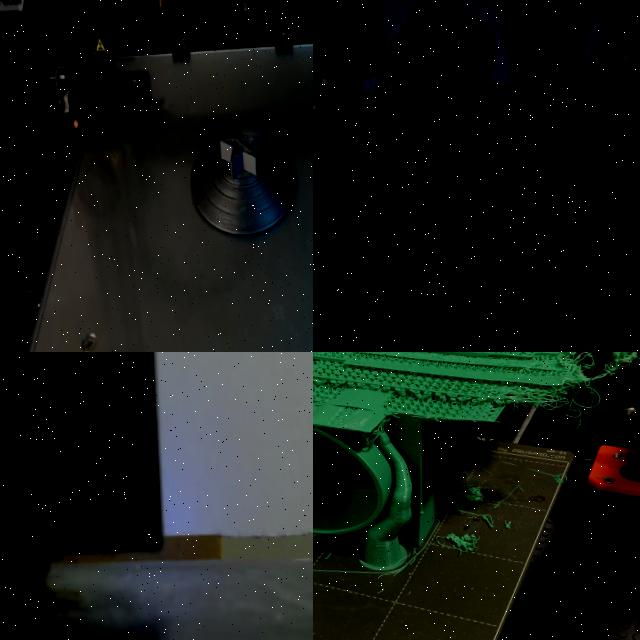spaghetti: (537, 352, 640, 430), (0, 554, 53, 608), (437, 486, 495, 517), (438, 528, 488, 560), (527, 467, 576, 497)
